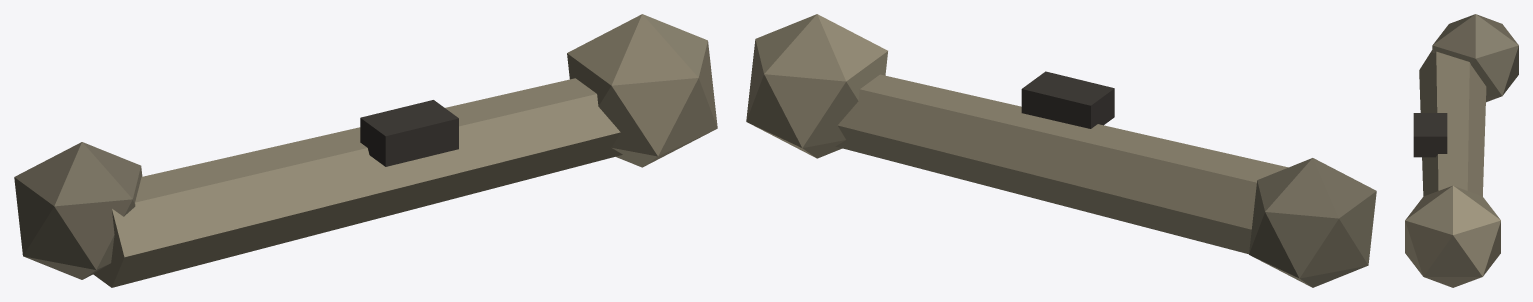
Rendered from cracked_bone.glb.
3 renders of one model, left to right at view 1: azimuth 30°, elevation 25°; view 2: azimuth 150°, elevation 25°; view 3: azimuth 270°, elevation 25°, orthographic. The views are drawn at different scales.
Parts seen in each view (by area): view 1: CrackedBone; view 2: CrackedBone; view 3: CrackedBone.
Part boxes in pixels (x1,y1,x2,y2): CrackedBone: [14, 14, 717, 287]; CrackedBone: [746, 14, 1376, 287]; CrackedBone: [1405, 14, 1518, 287].
Size of the model in its own units: 0.455 by 0.1 by 0.1008.
